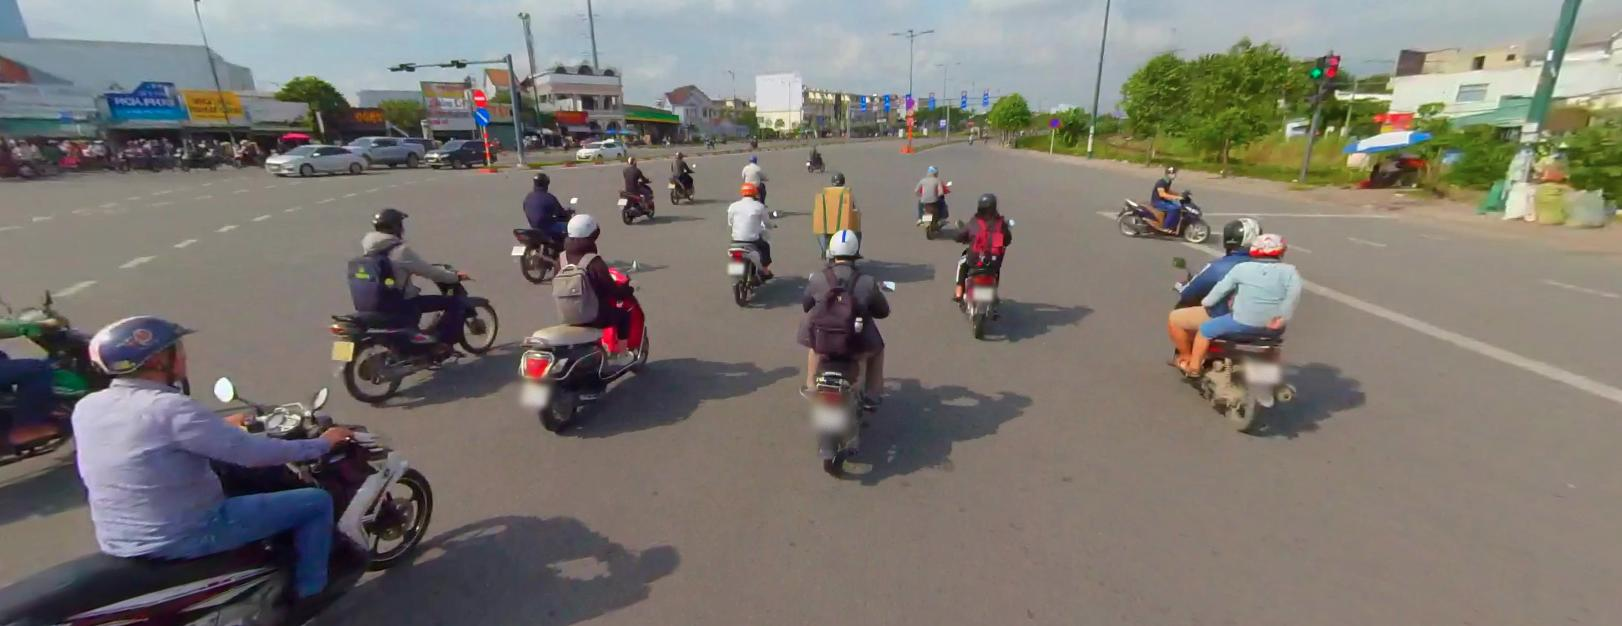Cam con lai: (906, 107, 914, 115), (906, 115, 913, 124)
Cam dung va do: (1048, 116, 1060, 127), (906, 97, 914, 105)
Cam nguoc chieu: (472, 88, 486, 106)
Hieu lenh: (472, 106, 489, 124)
